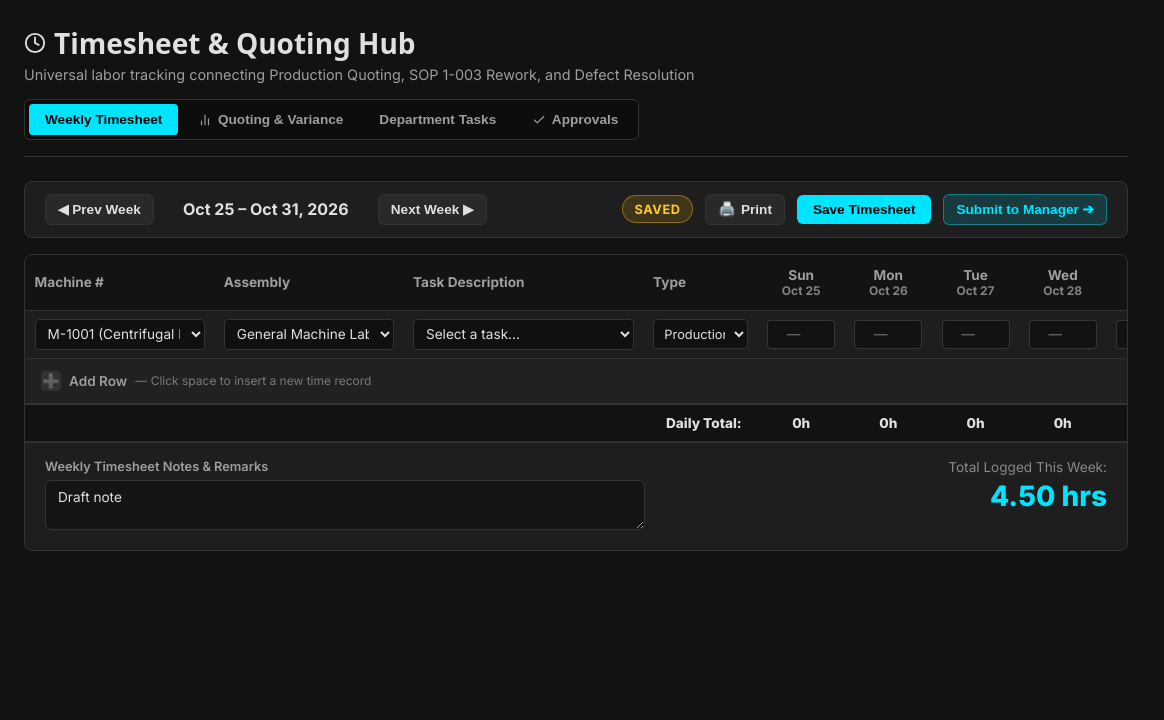
Test case: TimesheetPage › toggles to Quoting & Variance tab and displays task quoting metrics
What coordinates should you click on to do the following:
click the button "Quoting & Variance"
I would click on:
 (271, 120)
Its box is [182,104,359,135].
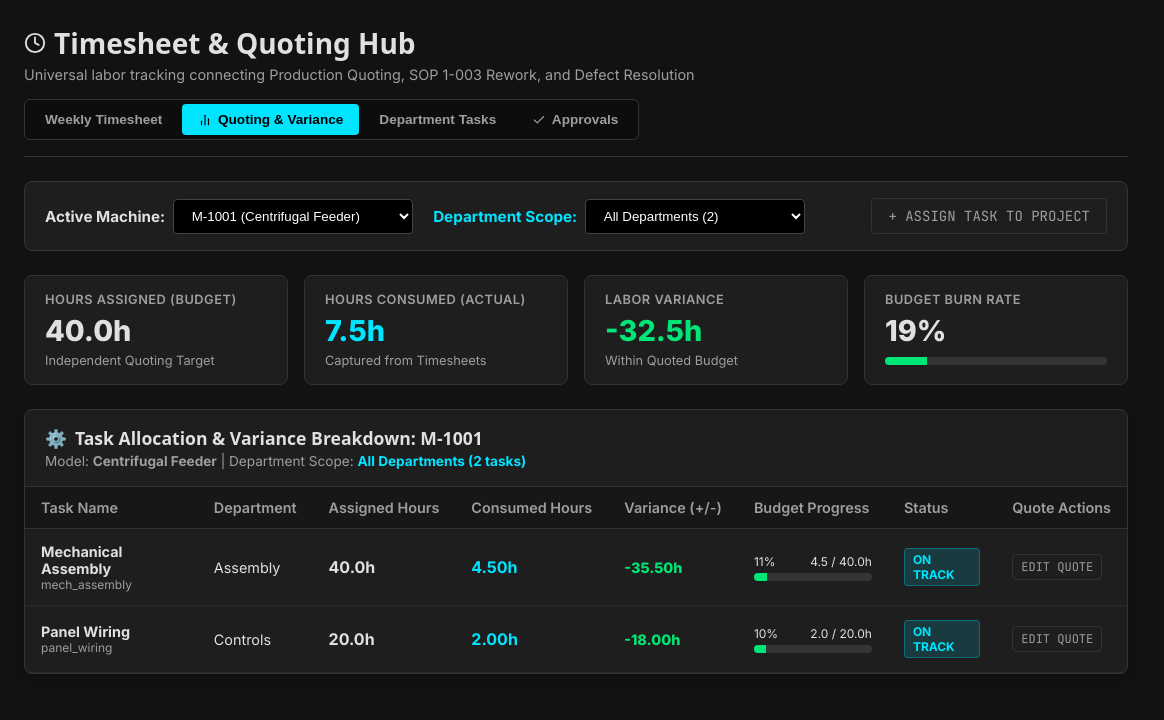
Check: the heading "Task Allocation & Variance Breakdown: M-1001" is shown, box [45,426,526,450]
Check: the text "40.0h" below "Hours Assigned (Budget)" is shown, box [45,313,131,348]
Check: the text "-35.50h" is shown, box [624,559,682,576]
